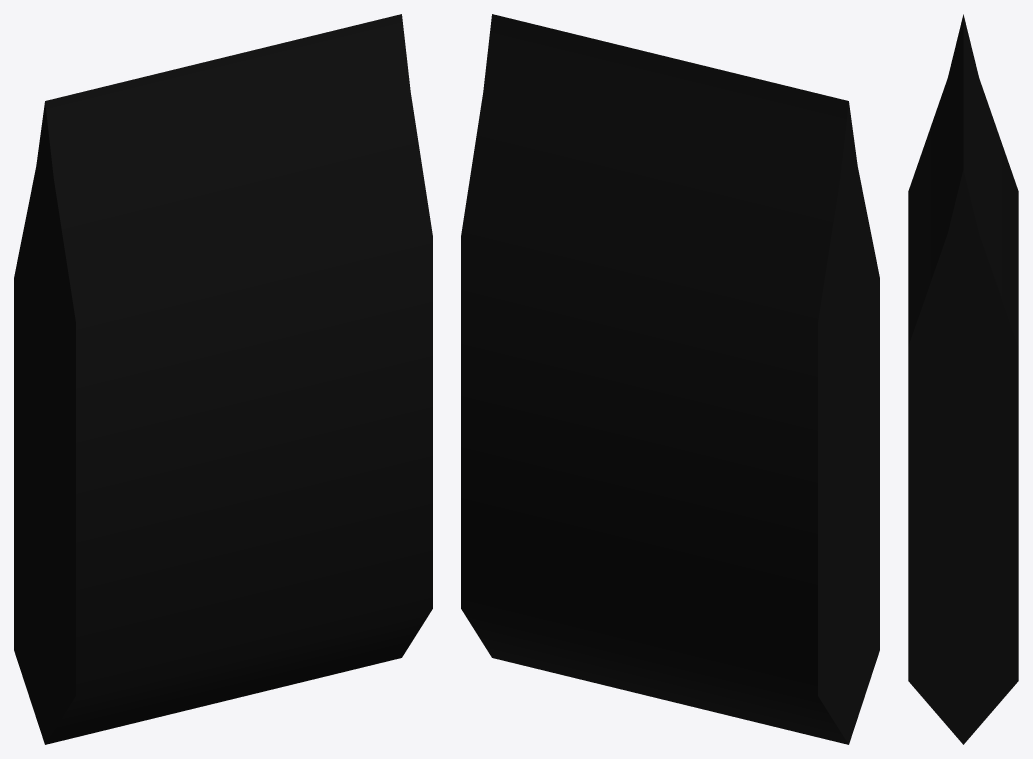
Rendered from Paketik.fbx.
3 views of the same model, side by side, from view 1: azimuth 30°, elevation 25°; view 2: azimuth 150°, elevation 25°; view 3: azimuth 270°, elevation 25° (orthographic). The views are drawn at different scales.
Visible parts, largest first — view 1: Paketik; view 2: Paketik; view 3: Paketik.
Boxes of the visible parts, left/top/right/bottom form: Paketik: left=14, top=14, right=432, bottom=744; Paketik: left=461, top=14, right=879, bottom=744; Paketik: left=908, top=14, right=1018, bottom=744.
Bounding box in the file's own units: 11.05 × 19.04 × 3.31.
